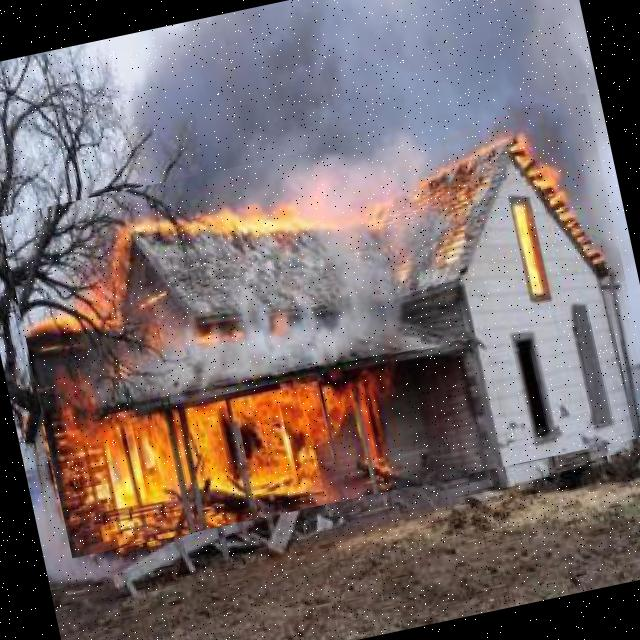fire: (0, 92, 640, 558)
